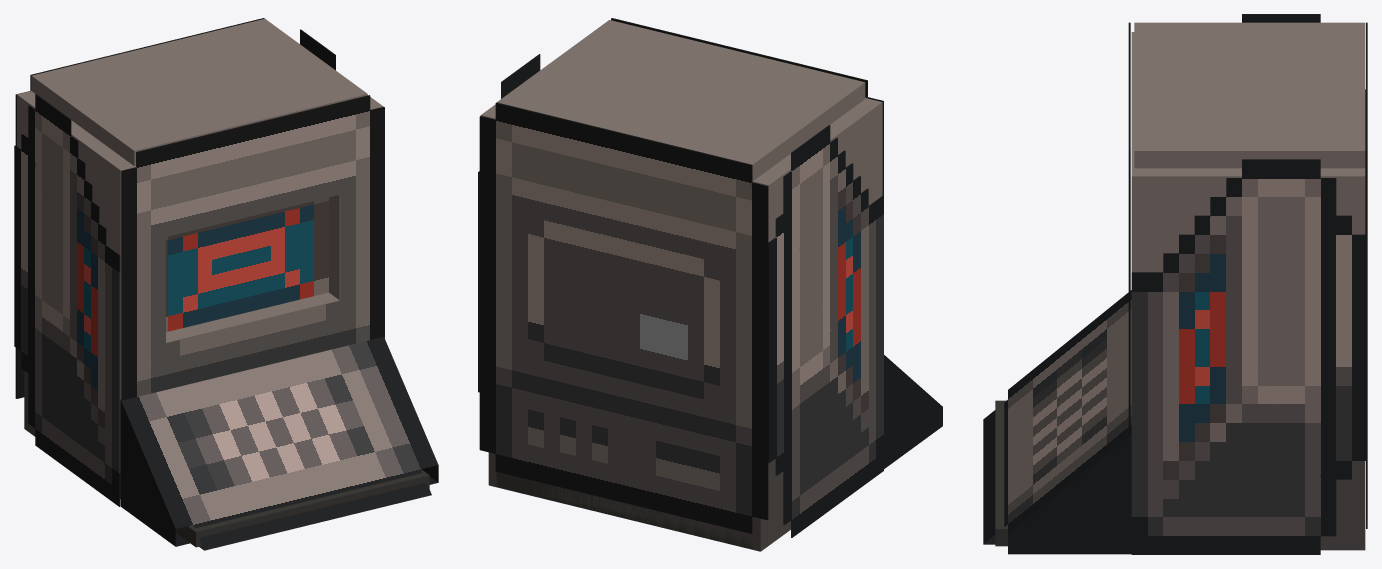
The model's file is CMU3DCameraTerminalWest.glb.
The picture shows the model from 3 angles, left to right: view 1: azimuth 30°, elevation 25°; view 2: azimuth 150°, elevation 25°; view 3: azimuth 270°, elevation 25°; orthographic projection. The views are drawn at different scales.
Visible parts, largest first — view 1: original front bezel, source keyboard on sloping deck, original left monitor profile, stepped crown, recessed display glass, upper monitor bezel, keyboard lower foot, lower monitor bezel, right monitor bezel, original rear service cover, original right monitor profile; view 2: original rear service cover, original left monitor profile, stepped crown, rear base and hinge, upper monitor bezel, source keyboard on sloping deck, keyboard lower foot, original right monitor profile, original front bezel; view 3: original right monitor profile, stepped crown, source keyboard on sloping deck, upper monitor bezel, rear base and hinge, keyboard lower foot, original front bezel, original left monitor profile, monitor rear casting, original rear service cover.
Boxes of the visible parts, <box> form: original front bezel: <box>121,95,384,400</box>; source keyboard on sloping deck: <box>120,337,438,550</box>; original left monitor profile: <box>14,94,120,506</box>; stepped crown: <box>31,18,367,165</box>; recessed display glass: <box>166,197,328,331</box>; upper monitor bezel: <box>17,93,383,246</box>; keyboard lower foot: <box>175,469,429,547</box>; lower monitor bezel: <box>166,292,339,343</box>; right monitor bezel: <box>329,195,340,300</box>; original rear service cover: <box>15,18,264,398</box>; original right monitor profile: <box>300,29,384,338</box>; original rear service cover: <box>479,102,768,533</box>; original left monitor profile: <box>768,125,883,537</box>; stepped crown: <box>497,20,865,181</box>; rear base and hinge: <box>488,452,790,551</box>; upper monitor bezel: <box>480,98,882,242</box>; source keyboard on sloping deck: <box>884,355,942,468</box>; keyboard lower foot: <box>496,472,752,549</box>; original right monitor profile: <box>478,54,540,392</box>; original front bezel: <box>611,18,883,195</box>; original right monitor profile: <box>1131,159,1367,554</box>; stepped crown: <box>1134,22,1365,168</box>; source keyboard on sloping deck: <box>983,290,1131,554</box>; upper monitor bezel: <box>1131,32,1365,261</box>; rear base and hinge: <box>1320,461,1365,550</box>; keyboard lower foot: <box>995,400,1007,546</box>; original front bezel: <box>1128,22,1130,433</box>; original left monitor profile: <box>1242,14,1365,234</box>; monitor rear casting: <box>1174,168,1365,172</box>; original rear service cover: <box>1366,22,1367,528</box>.
Size of what is drawn, in the model's own units: 0.5685 by 0.7188 by 0.634.
8 materials, 5 textured.
